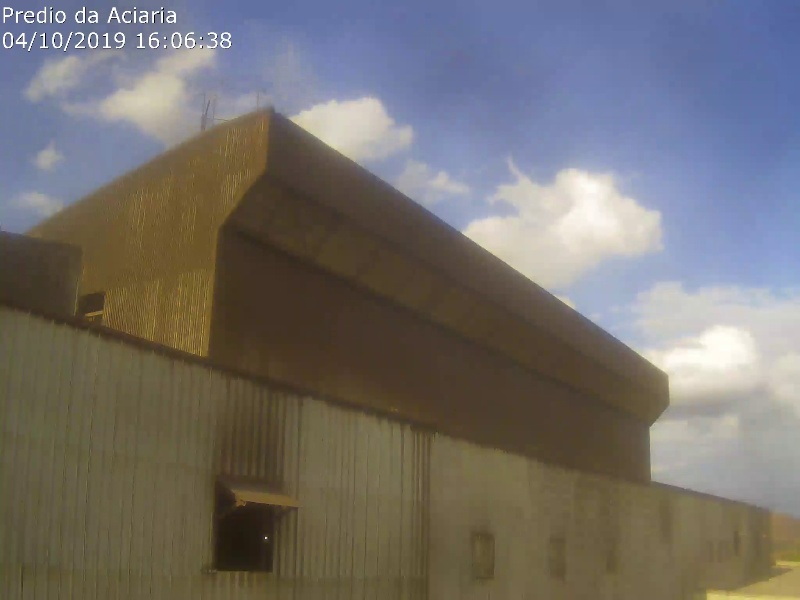bom: (234, 14, 742, 427)
